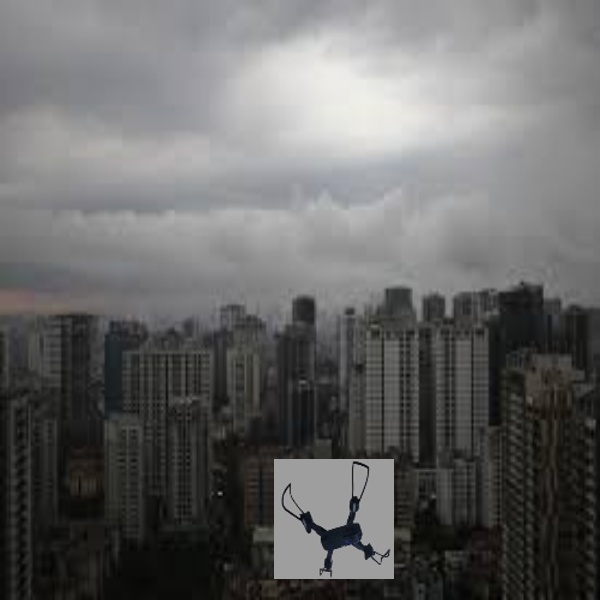drone: (276, 458, 393, 576)
